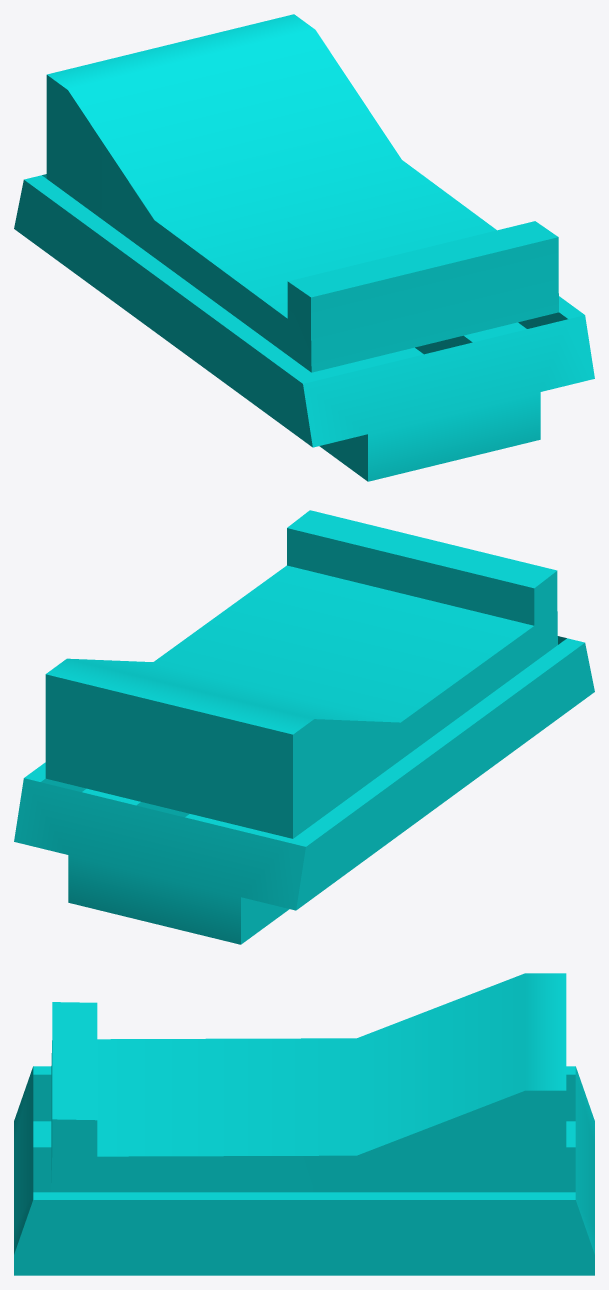
File: SM_Prop_Hospital_Bed_01_Collision.fbx
The picture shows the model from 3 angles, top to bottom: view 1: azimuth 30°, elevation 25°; view 2: azimuth 150°, elevation 25°; view 3: azimuth 270°, elevation 25°; orthographic projection. The views are drawn at different scales.
Parts seen in each view (by area): view 1: SM_Prop_Hospital_Bed_01_Collision; view 2: SM_Prop_Hospital_Bed_01_Collision; view 3: SM_Prop_Hospital_Bed_01_Collision.
Part boxes in pixels (x1,y1,x2,y2): SM_Prop_Hospital_Bed_01_Collision: (14, 14, 594, 481); SM_Prop_Hospital_Bed_01_Collision: (14, 510, 594, 944); SM_Prop_Hospital_Bed_01_Collision: (14, 973, 594, 1275).
Size of the model in its own units: 157 by 111 by 288.
